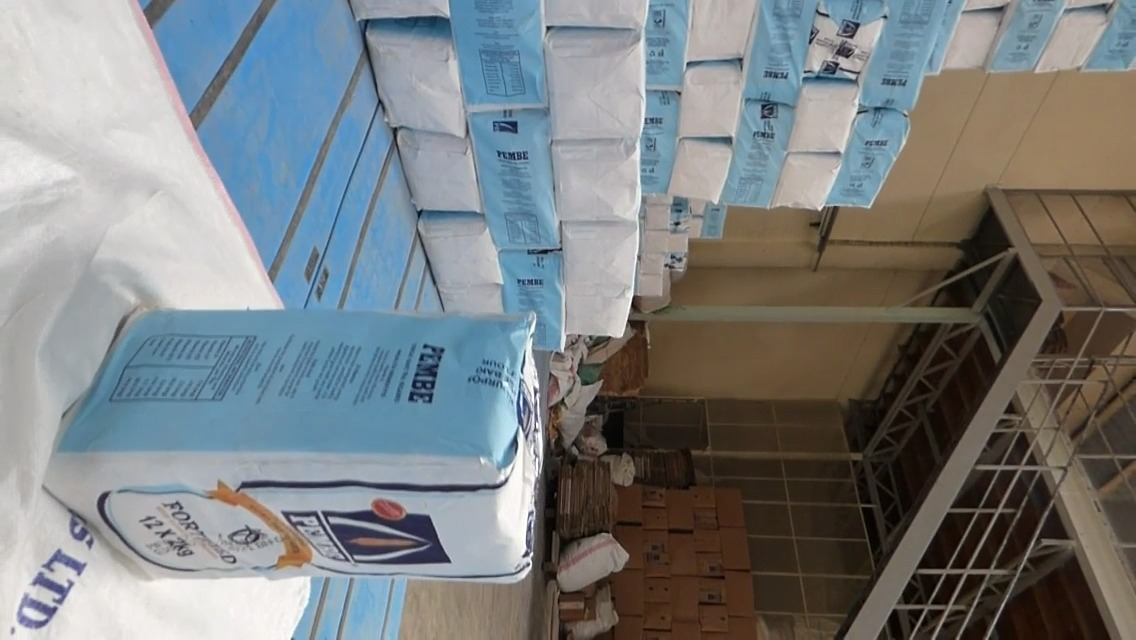wheat_flour_blue_label: (30, 308, 536, 570)
